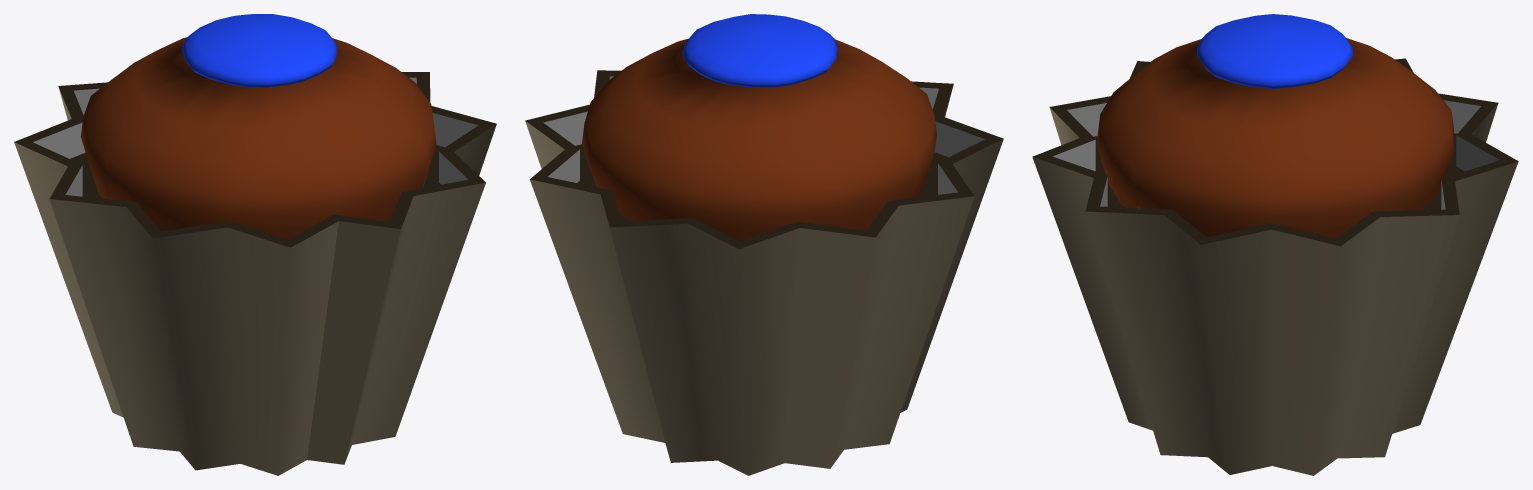
File: Cub cake BLUE.FBX
The picture shows the model from 3 angles, left to right: view 1: azimuth 30°, elevation 25°; view 2: azimuth 150°, elevation 25°; view 3: azimuth 270°, elevation 25°; orthographic projection.
Visible parts, largest first — view 1: BLUE CUBCAKE; view 2: BLUE CUBCAKE; view 3: BLUE CUBCAKE.
Part boxes in pixels (x1,y1,x2,y2): BLUE CUBCAKE: (14,14,496,475); BLUE CUBCAKE: (525,14,1003,475); BLUE CUBCAKE: (1032,14,1518,475).
Size of the model in its own units: 64.28 by 56.63 by 64.95.
